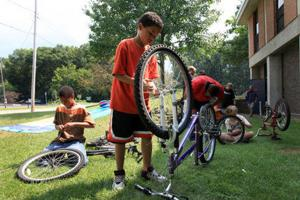person: (107, 10, 169, 192)
